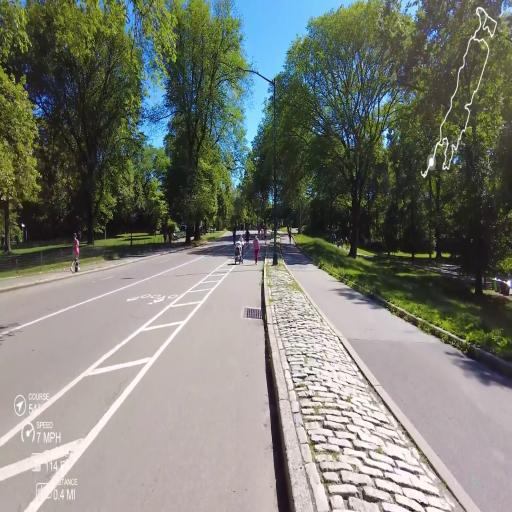Street_Light: (236, 64, 282, 267)
